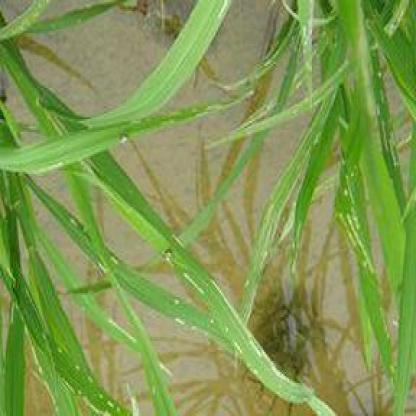rice-bug: (162, 237, 177, 267), (117, 130, 133, 146)
